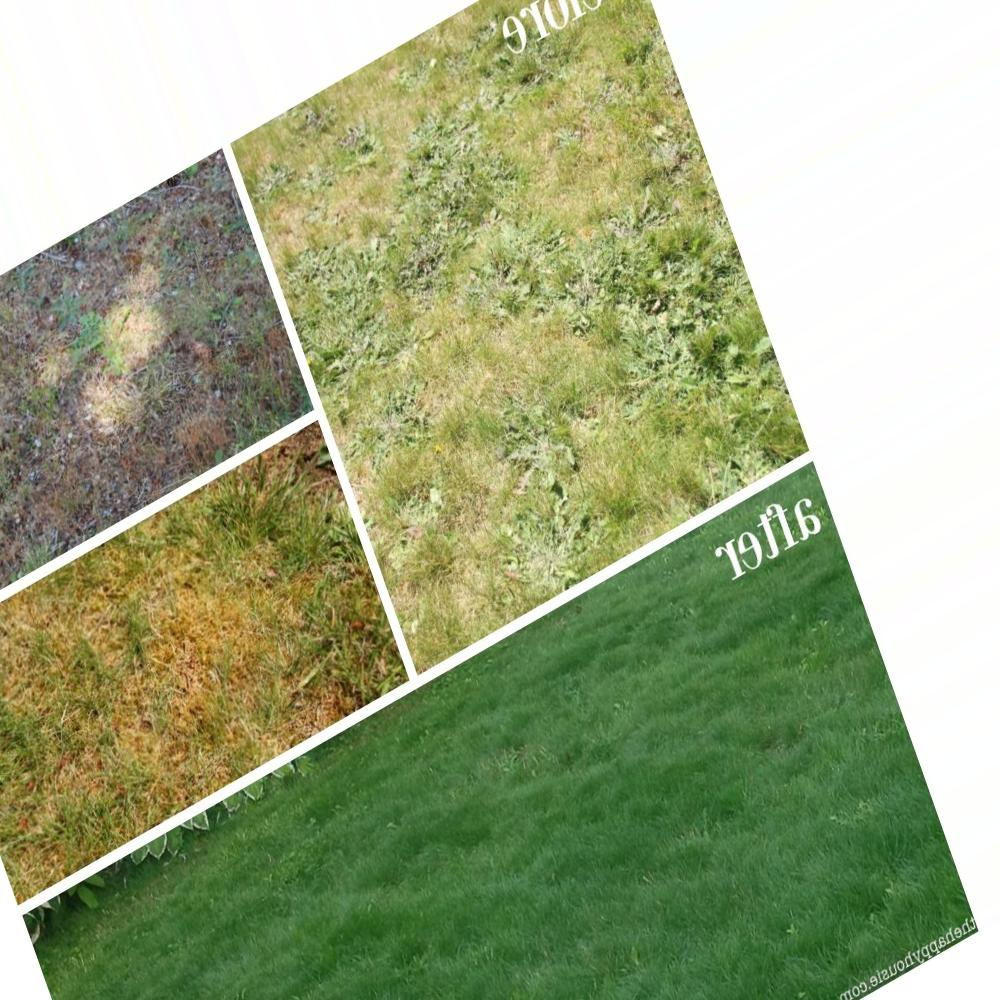patch: (322, 134, 629, 383), (416, 355, 610, 529), (20, 291, 231, 430), (9, 623, 234, 739), (594, 290, 715, 469), (424, 66, 636, 154), (142, 549, 318, 638), (94, 243, 249, 315), (202, 638, 334, 716), (17, 435, 116, 503), (49, 764, 134, 805)
